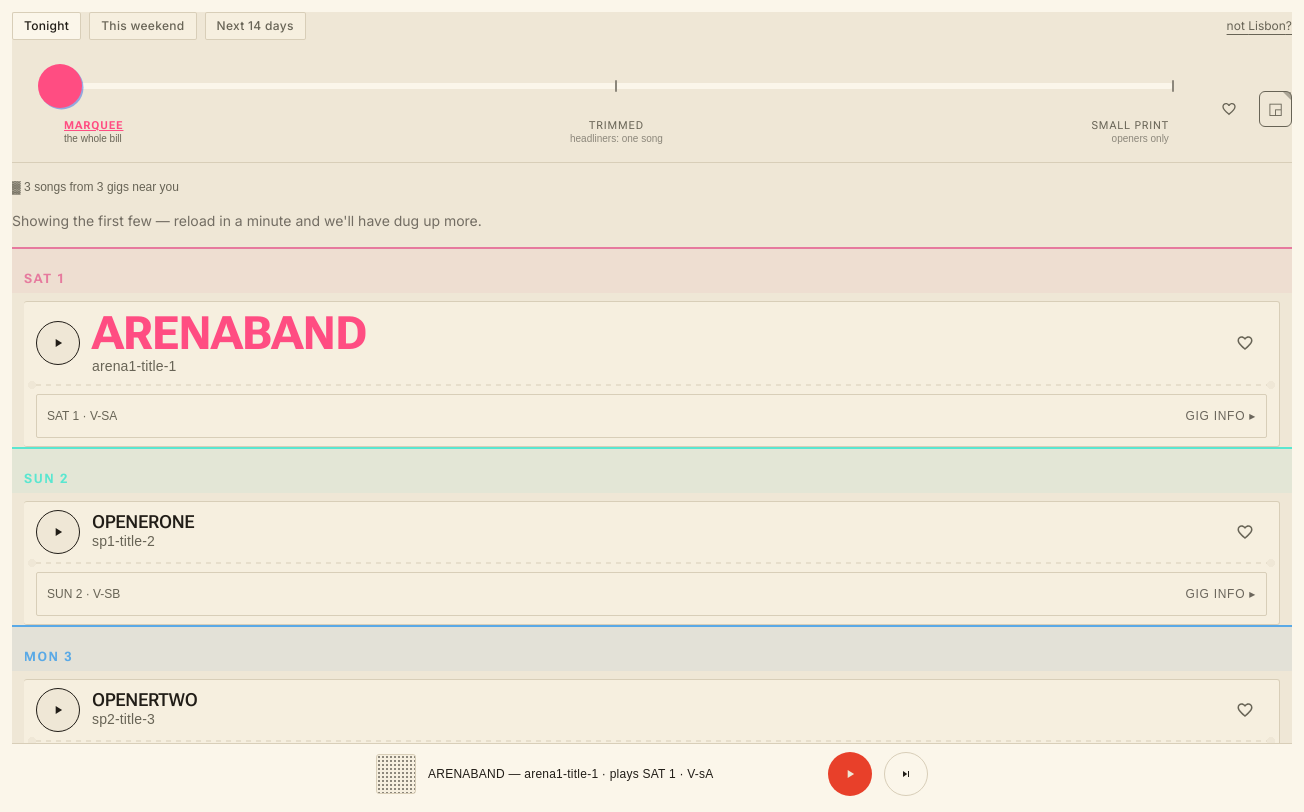
Test: PlaylistScreen rebuild — reduced motion (no travel class) › exit rows cross-fade in place (sf-row-fade) with no shrink-collapse or drop travel
The width and height of the screenshot is (1304, 812).
Step 1. Click the text "SMALL PRINT" → (1130, 126), box [1091,120,1169,131]
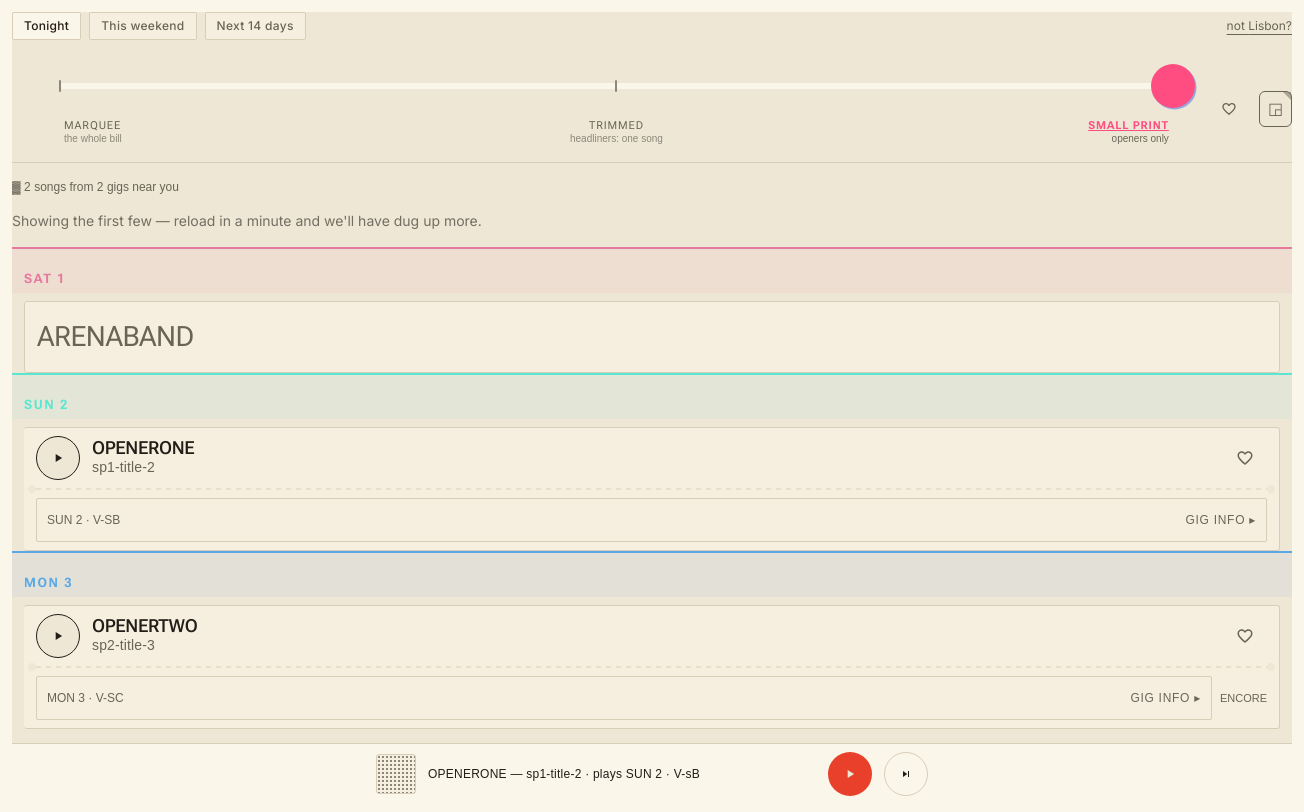
Now the list item with class "sf-row-fade" is shown, box [12,300,1292,372]
